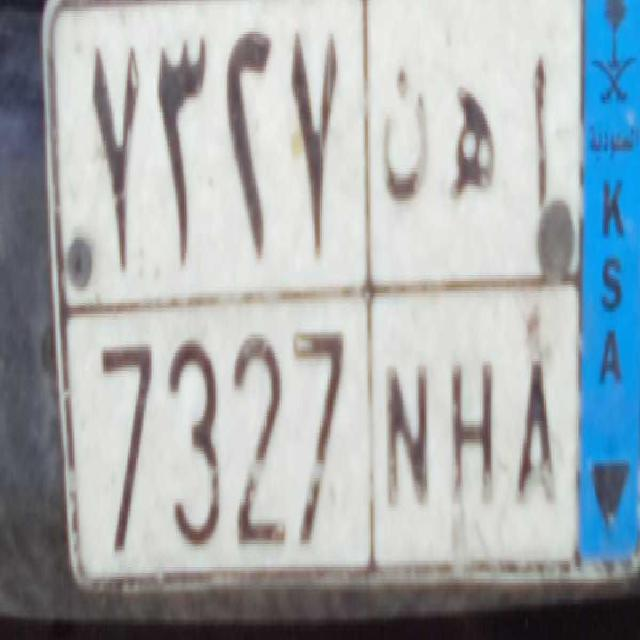license_plate: (80, 296, 569, 588)
